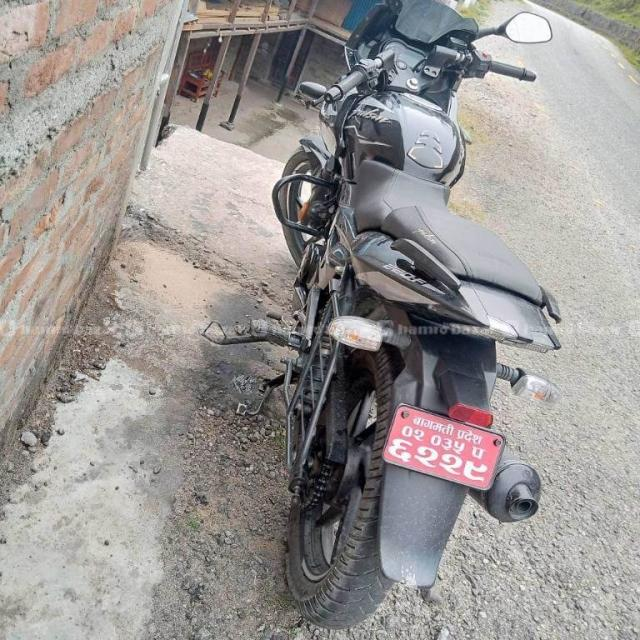License-plate: (385, 400, 507, 497)
